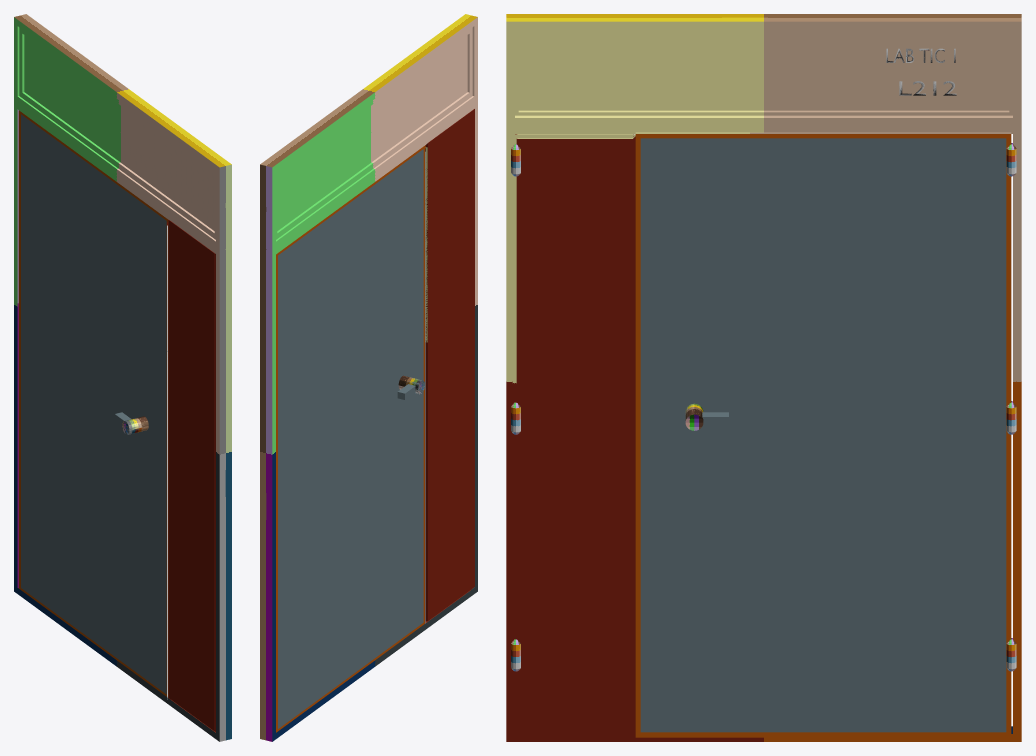
File: PuertaL1_AryB_47170979.fbx
3 renders of one model, left to right at view 1: azimuth 30°, elevation 25°; view 2: azimuth 150°, elevation 25°; view 3: azimuth 270°, elevation 25°, orthographic. The views are drawn at different scales.
Visible parts, largest first — view 1: Cube.028; view 2: Cube.028; view 3: Cube.028.
Part boxes in pixels (x1=…): Cube.028: x1=14, y1=14, x2=231, y2=741; Cube.028: x1=260, y1=14, x2=477, y2=741; Cube.028: x1=506, y1=14, x2=1021, y2=741.
Size of the model in its own units: 20.02 by 222 by 144.
Materials: 1 (1 with a texture image).
